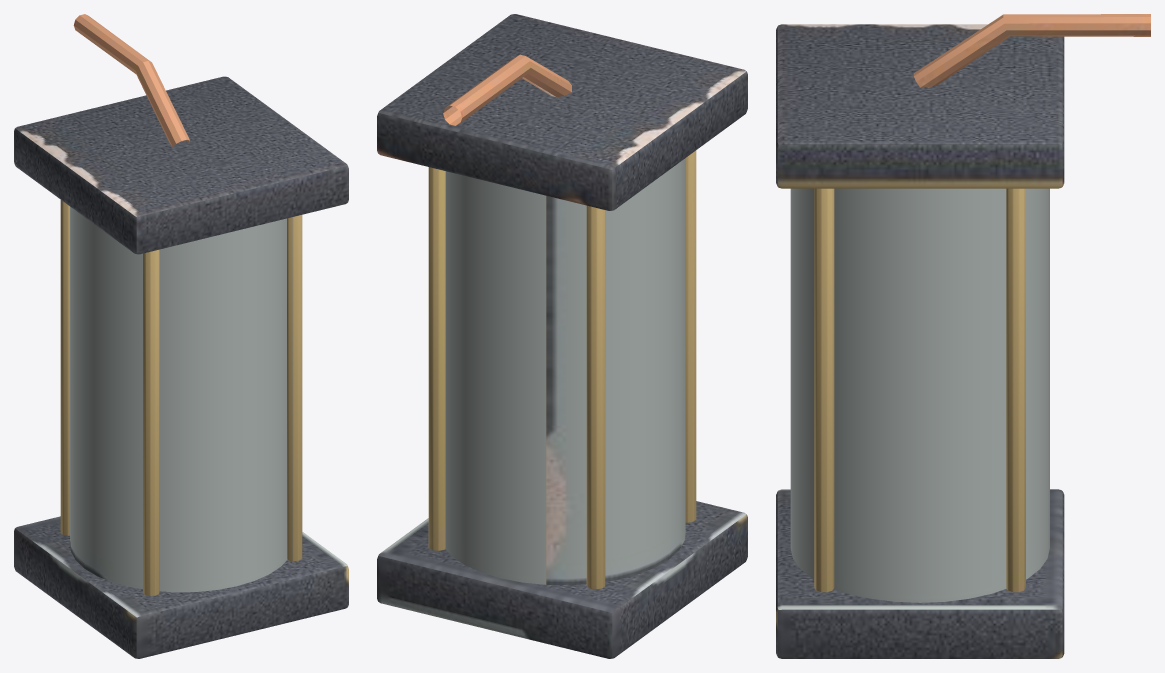
Rendered from tank.glb.
3 views of the same model, side by side, from view 1: azimuth 30°, elevation 25°; view 2: azimuth 150°, elevation 25°; view 3: azimuth 270°, elevation 25° (orthographic). The views are drawn at different scales.
Visible parts, largest first — view 1: base, glass; view 2: base, glass; view 3: glass, base.
Part boxes in pixels (x1,y1,x2,y2): base: (14,14,348,658); glass: (70,206,287,592); base: (377,14,747,658); glass: (445,158,685,585); glass: (790,188,1049,602); base: (776,14,1150,658).
Size of the model in its own units: 1 by 2.24 by 1.3.
Materials: 1 (1 with a texture image).
